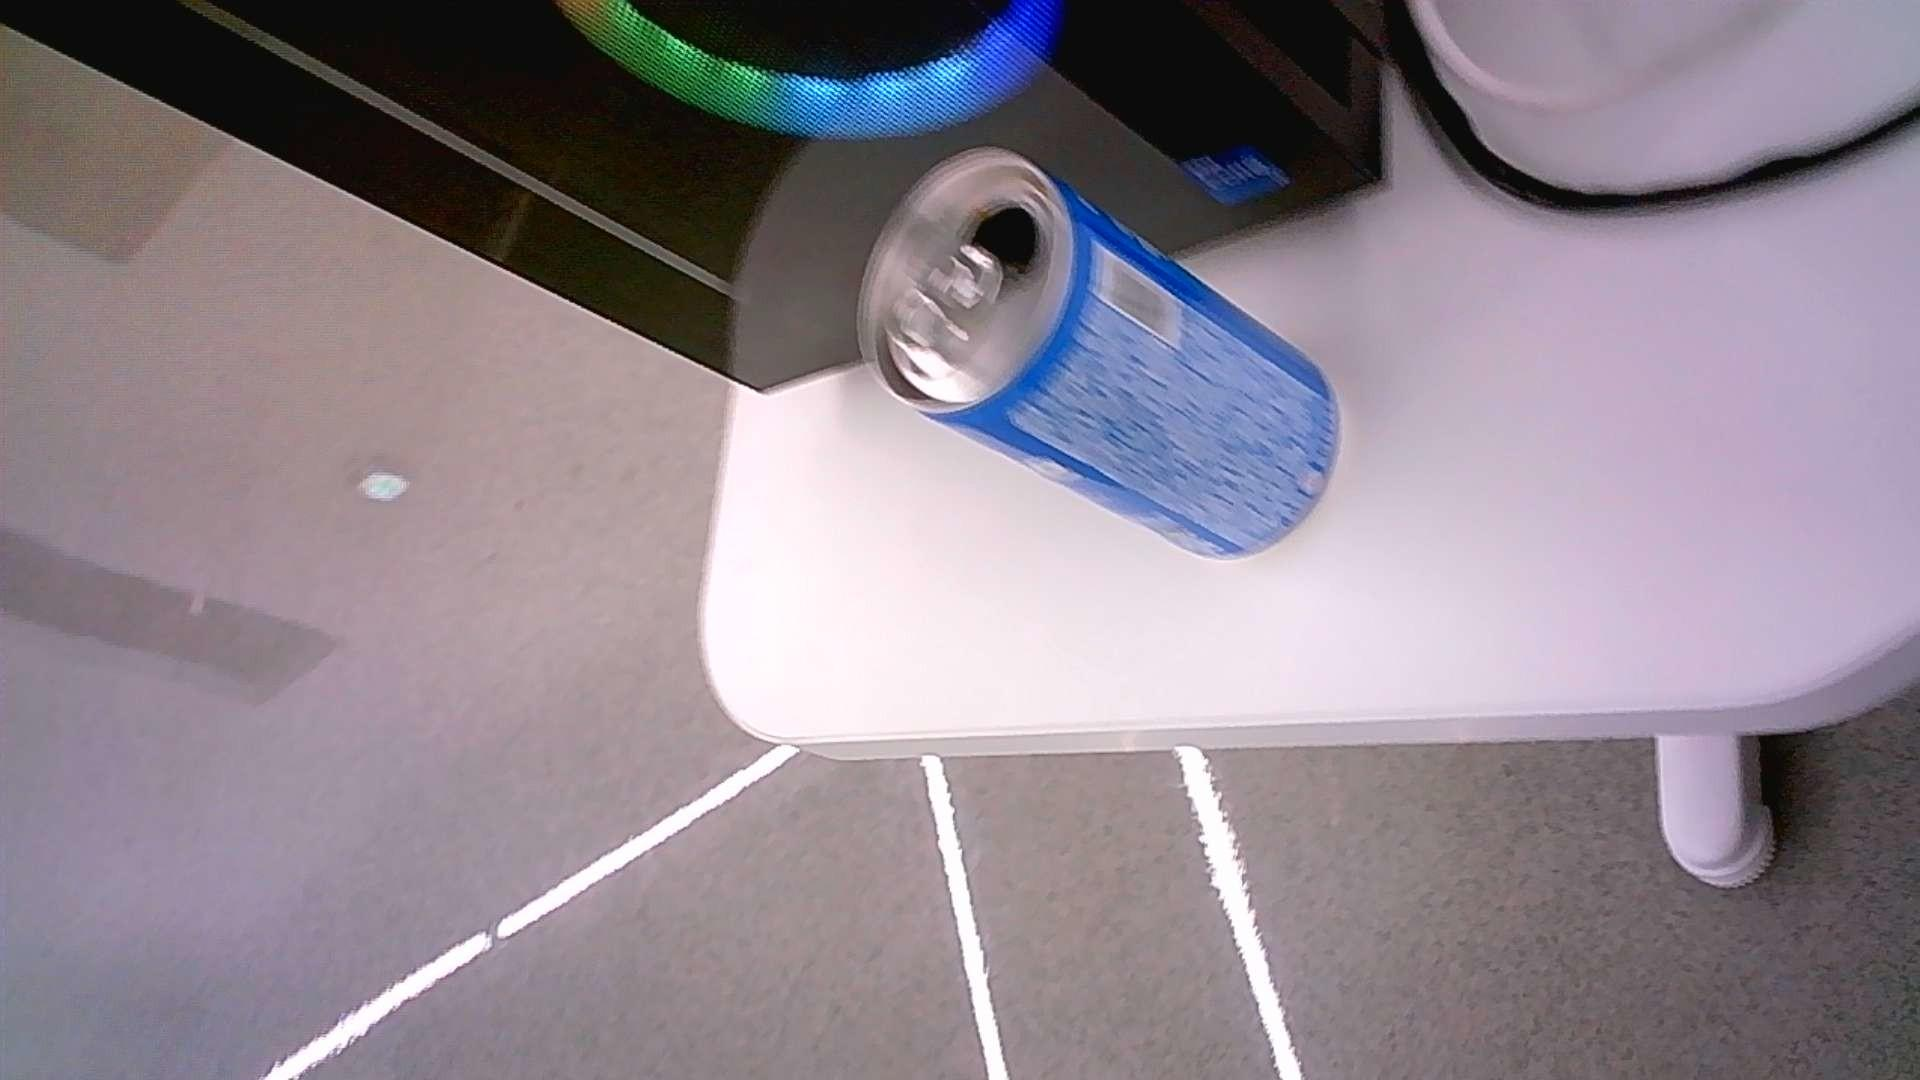letsbe: (857, 144, 1342, 560)
